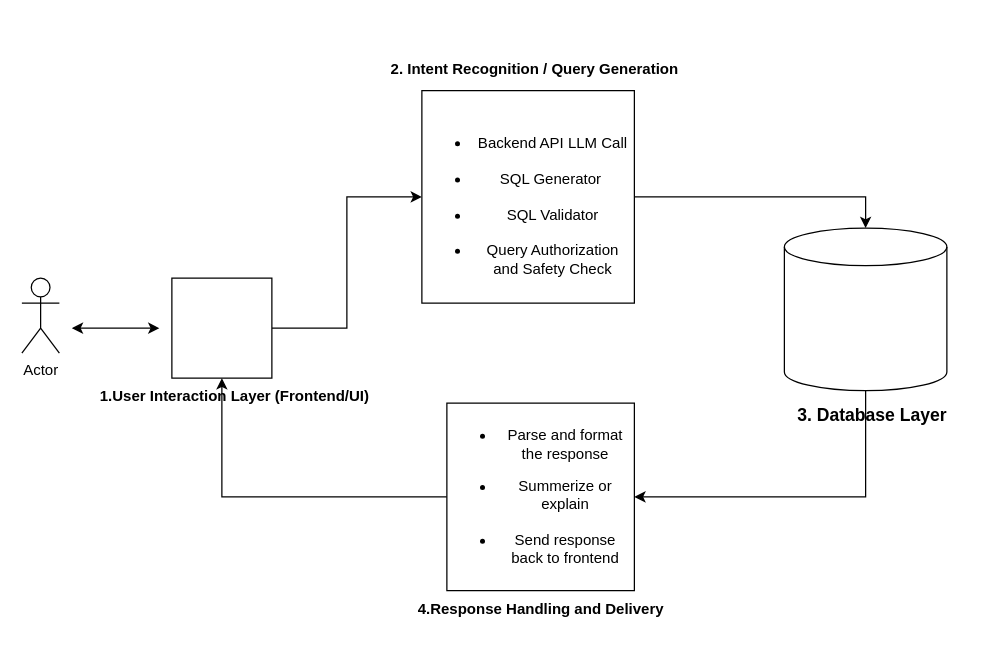
This 981x649 diagram has some shape labels left out. The centre of each missing label's shape, as x and y in pixels:
Executes SQL Query Fetch Results: point (865, 309)
UI Interface: point (221, 327)
